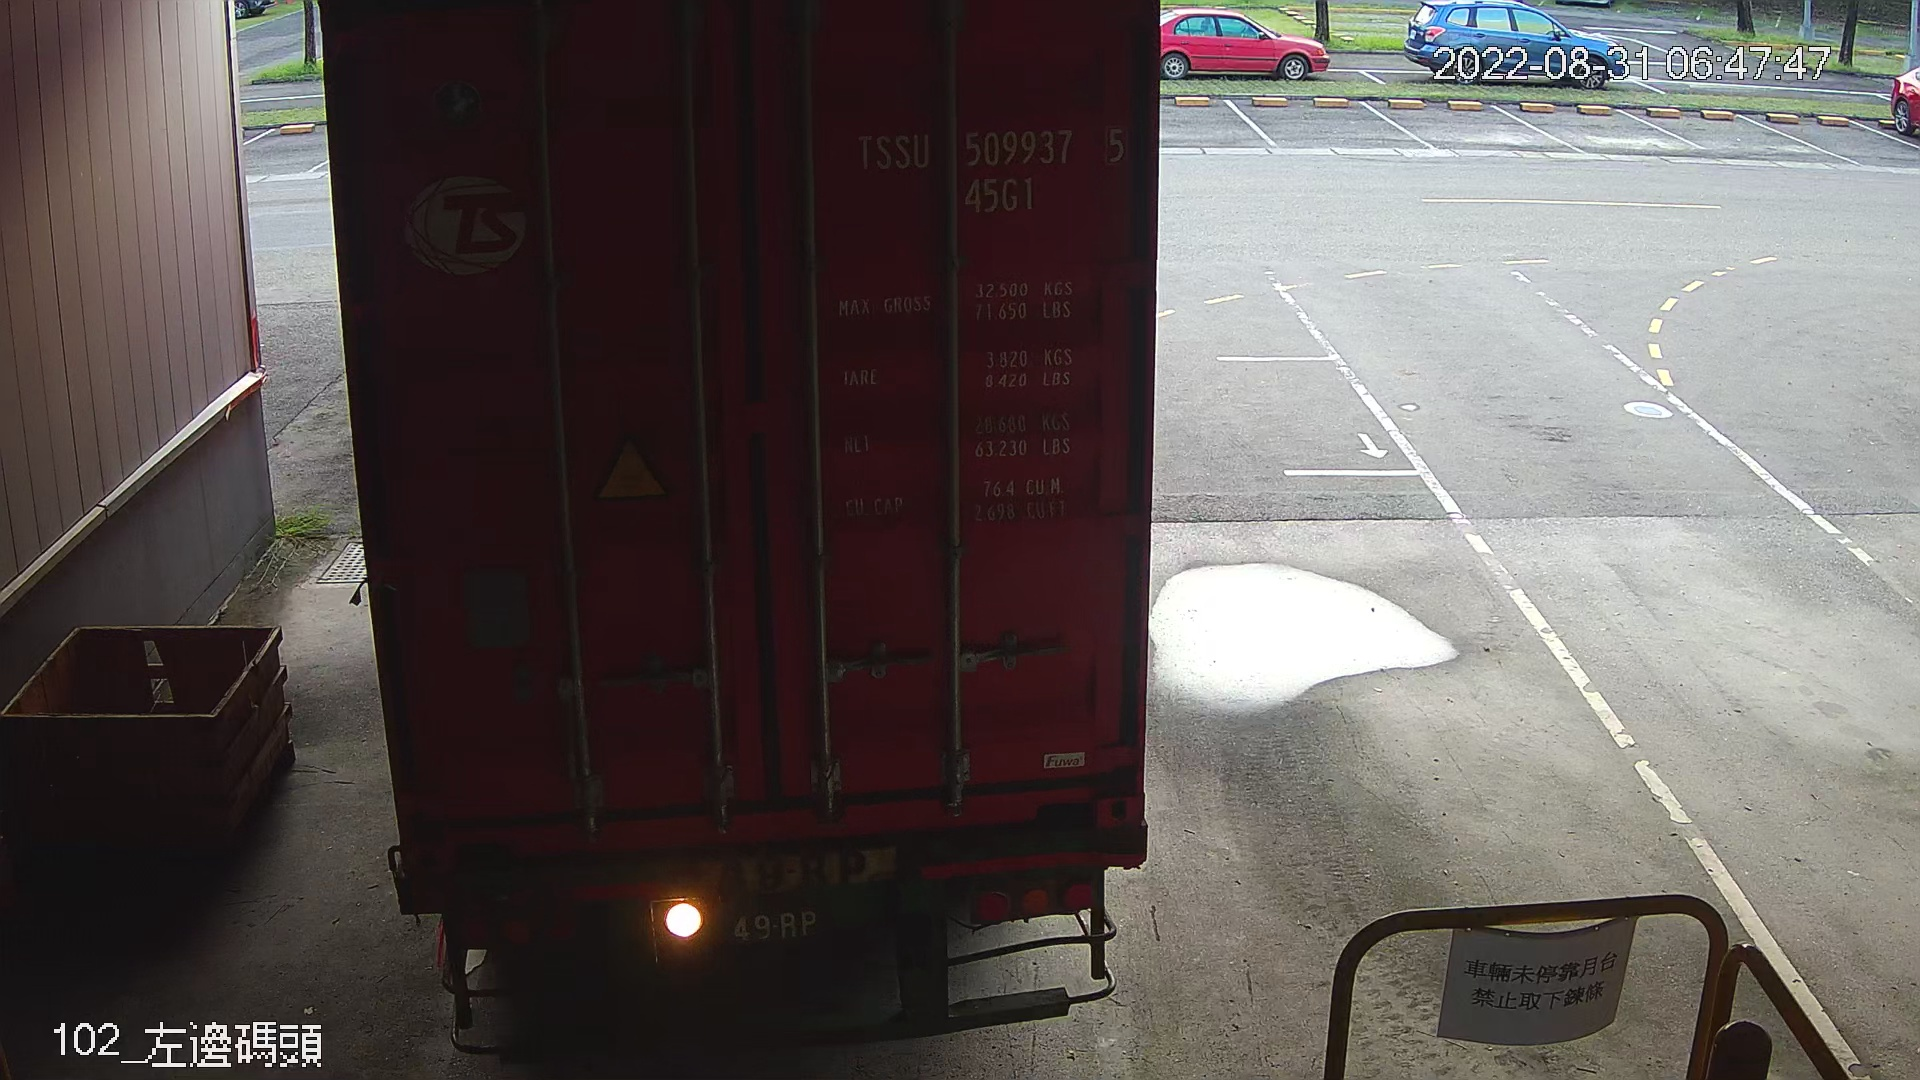container: (847, 117, 1134, 224)
